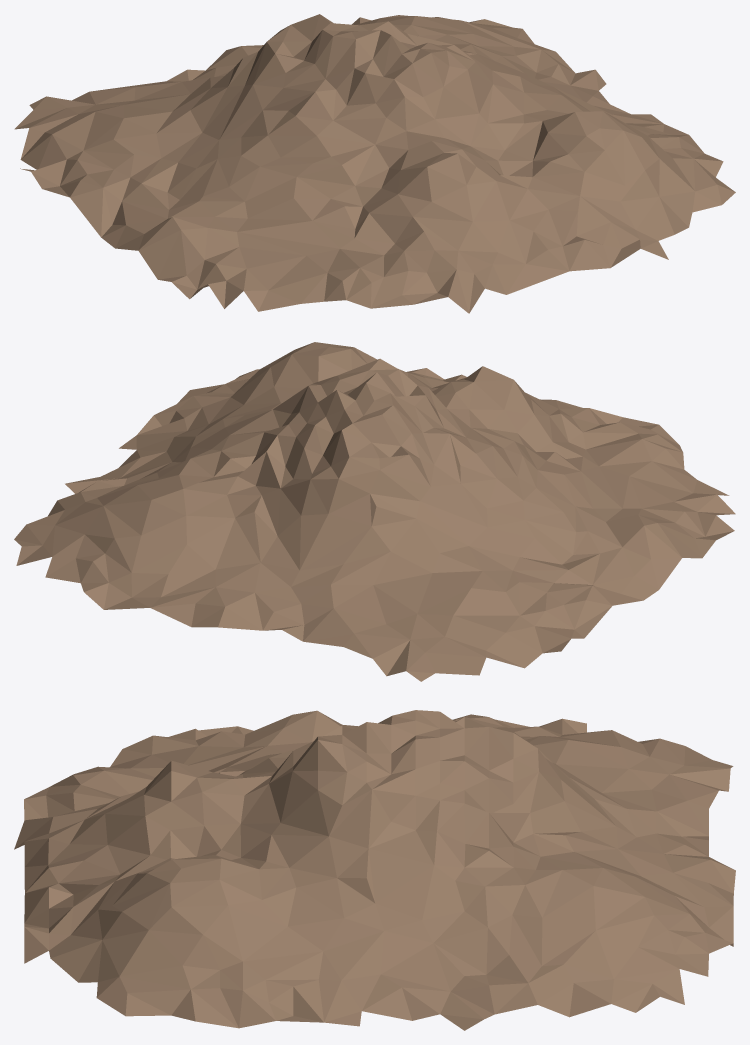
Rendered from Mountain_05.fbx.
3 renders of one model, top to bottom at view 1: azimuth 30°, elevation 25°; view 2: azimuth 150°, elevation 25°; view 3: azimuth 270°, elevation 25°, orthographic. The views are drawn at different scales.
Parts seen in each view (by area): view 1: Mountain_05; view 2: Mountain_05; view 3: Mountain_05.
Part boxes in pixels (x1,y1,x2,y2): Mountain_05: [14, 14, 735, 313]; Mountain_05: [14, 342, 735, 681]; Mountain_05: [14, 710, 735, 1030].
Size of the model in its own units: 14154 by 3744 by 14396.
